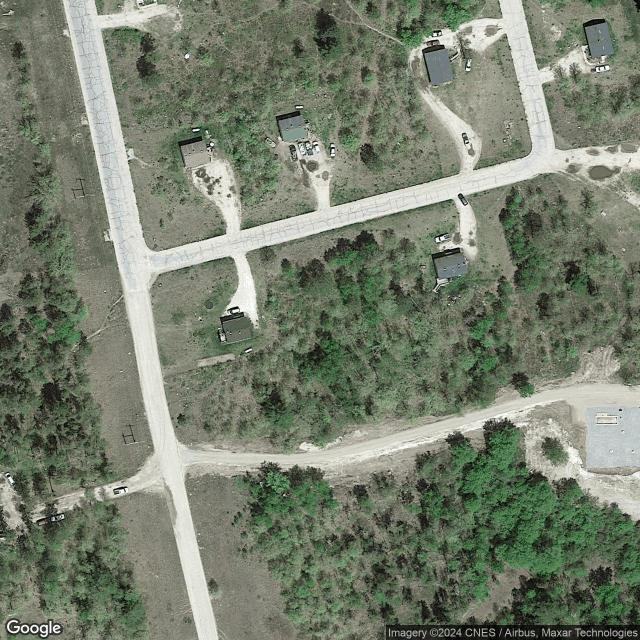Propane: (244, 346, 253, 354), (294, 104, 304, 110), (191, 127, 200, 133)
